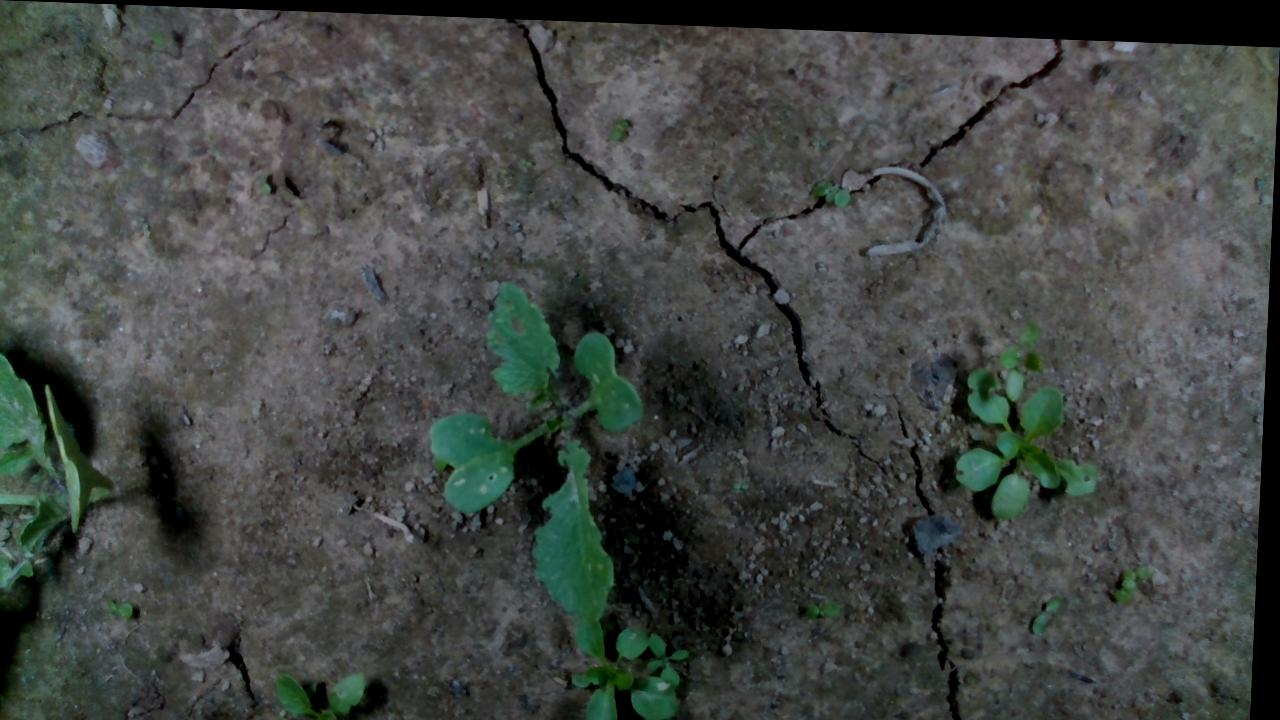weed: (1035, 583, 1068, 629), (811, 169, 853, 204), (807, 589, 848, 614), (105, 596, 140, 621)
